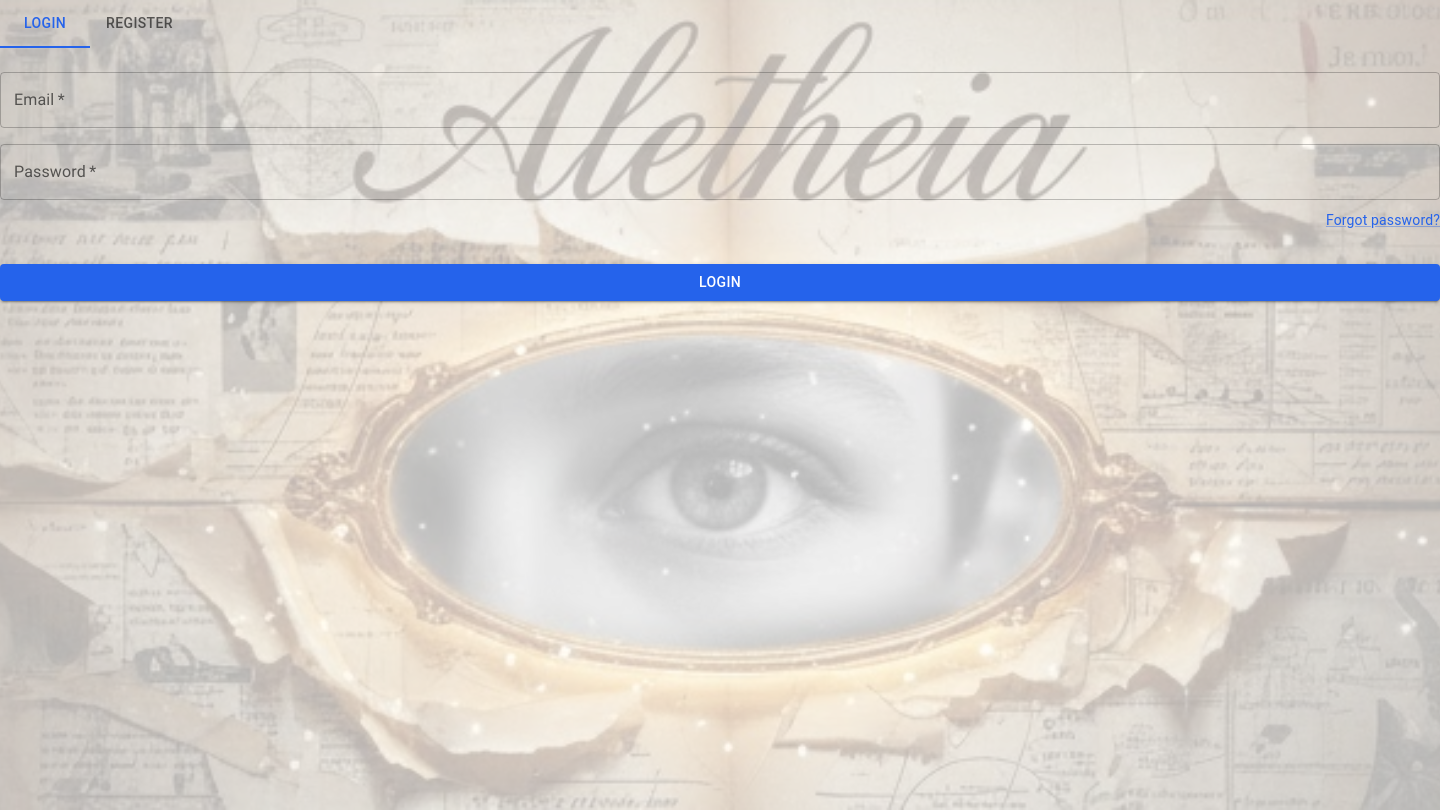
it: Authentication Flow Integration › Registration Flow › should validate password requirements during registration
# Switch to register mode
Click the tab "Register": (140, 24) [90,0,189,48]
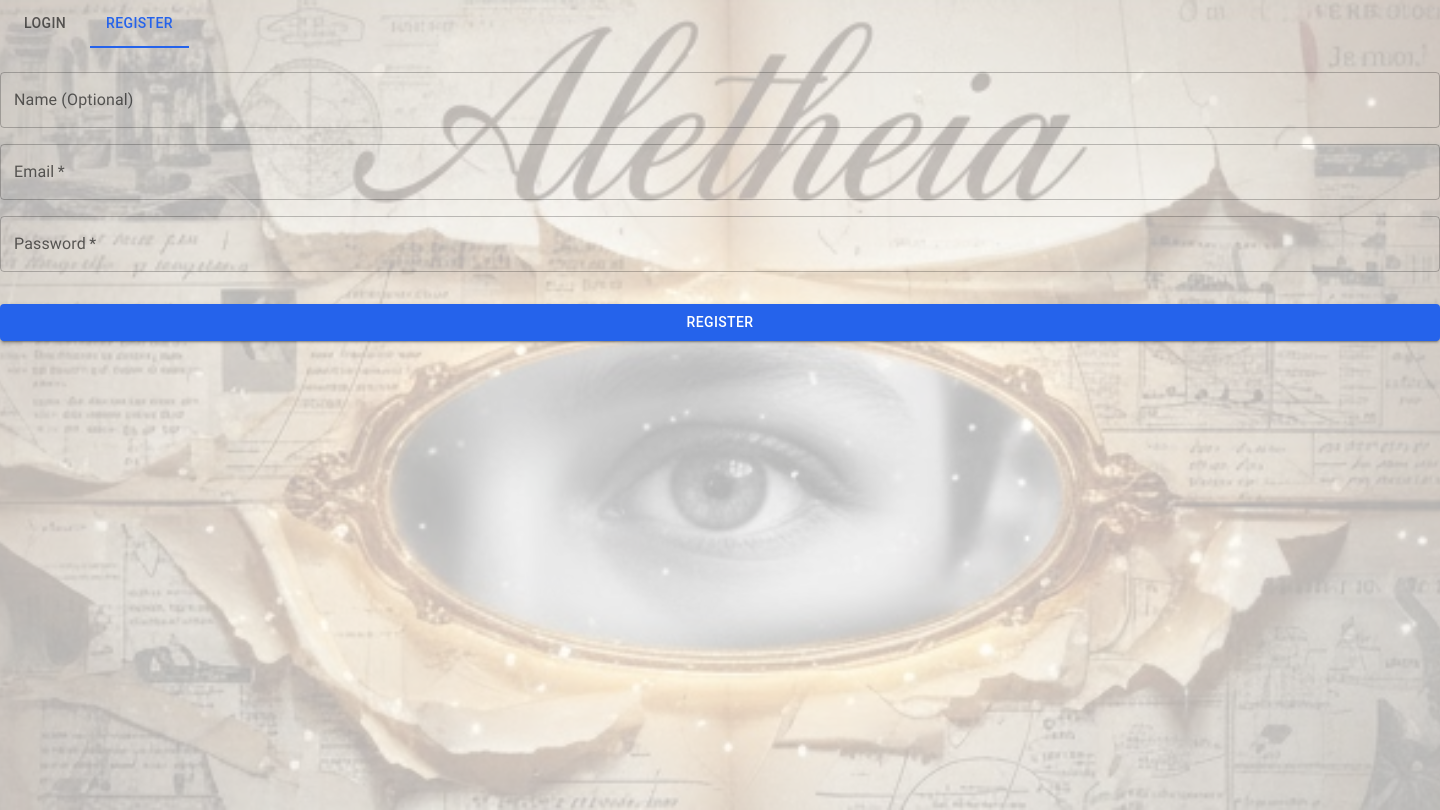
In the password field labelled "Password *": (720, 244) [0,216,1439,272], type "weak"
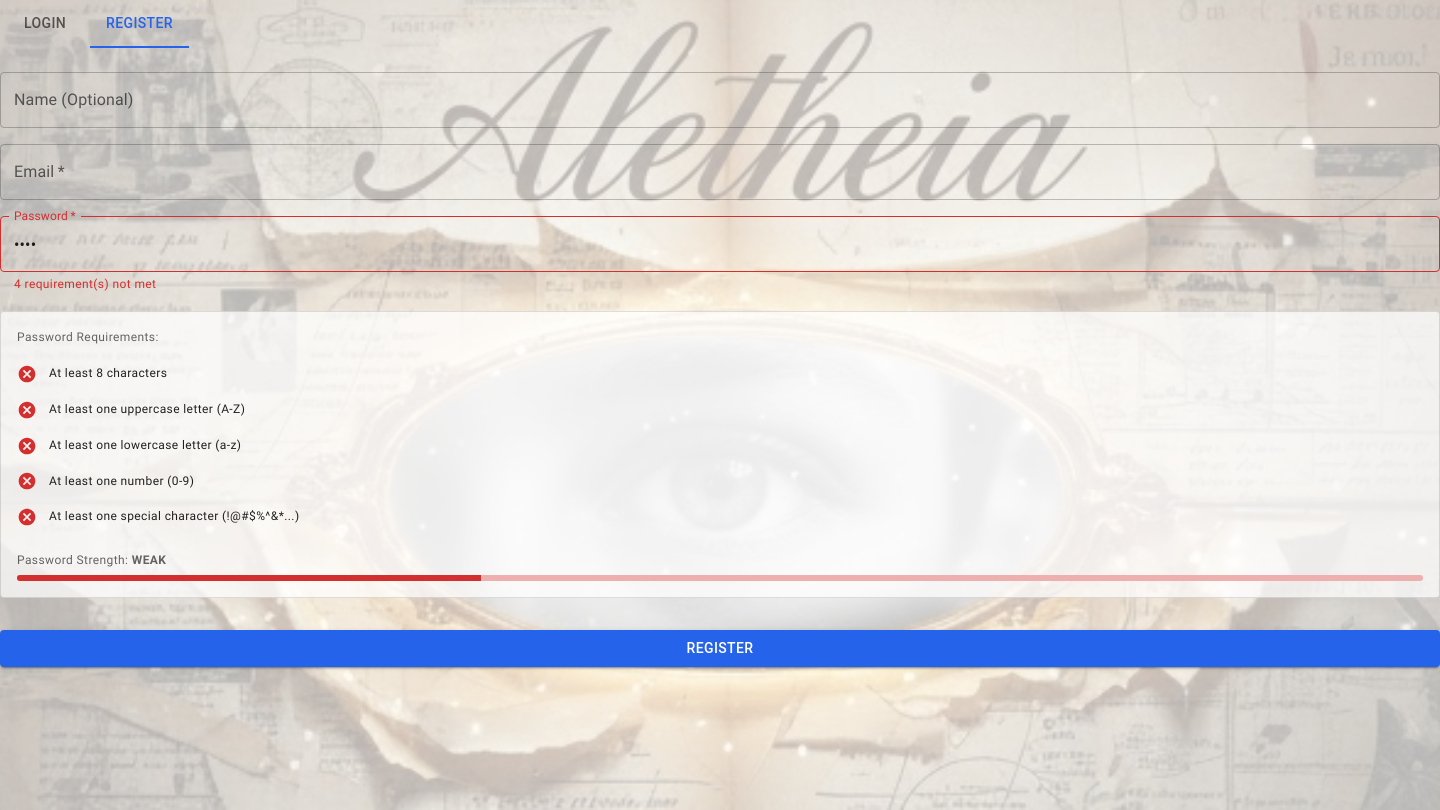
expect the text "Password Requirements:" is shown: met, box [17,330,159,344]
